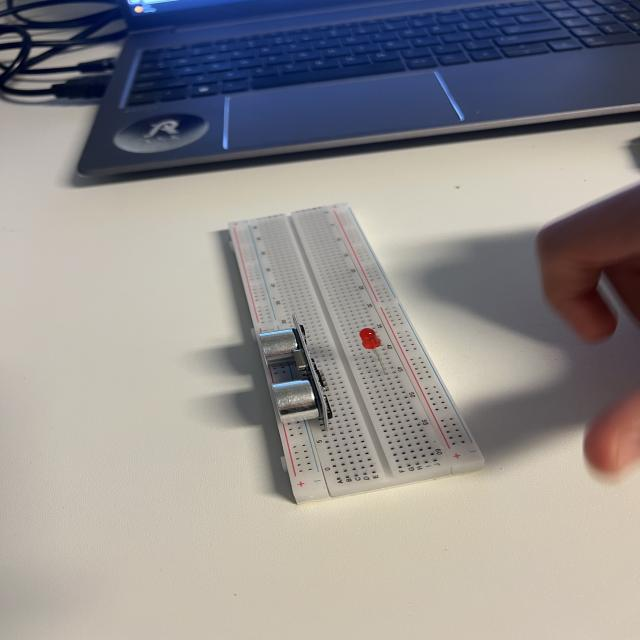BreadBoard: (225, 193, 492, 492)
REDLed: (363, 313, 400, 379)
UltrasoneSensor: (250, 315, 344, 440)
